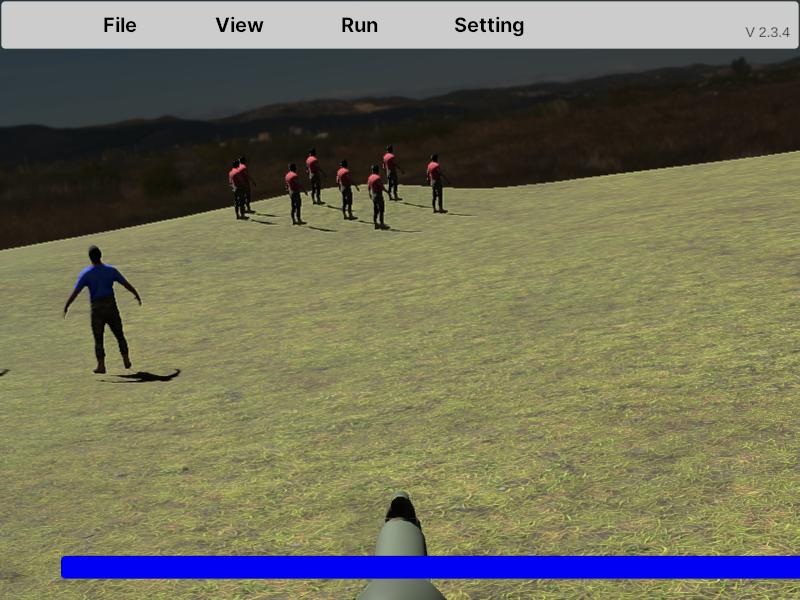Human: (63, 243, 141, 376), (229, 155, 254, 219), (368, 163, 388, 229), (337, 158, 358, 220), (426, 152, 447, 214), (286, 161, 306, 226), (306, 146, 325, 206), (383, 144, 403, 200)
